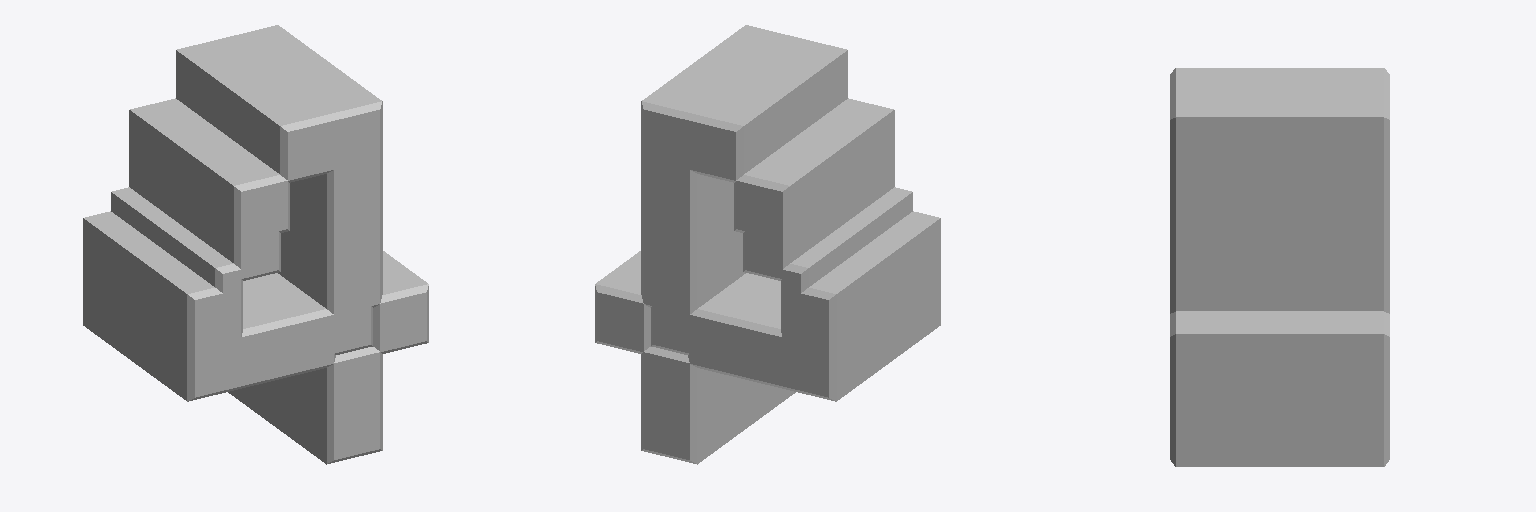
The model's file is trouble_three.obj.
3 views of the same model, side by side, from view 1: azimuth 30°, elevation 25°; view 2: azimuth 150°, elevation 25°; view 3: azimuth 270°, elevation 25° (orthographic).
Visible parts, largest first — view 1: Text; view 2: Text; view 3: Text.
Part boxes in pixels (bbox=[...]): Text: bbox=[83, 25, 428, 464]; Text: bbox=[595, 25, 940, 464]; Text: bbox=[1170, 68, 1389, 466].
Bounding box in the file's own units: 0.2003 × 0.2772 × 0.158.